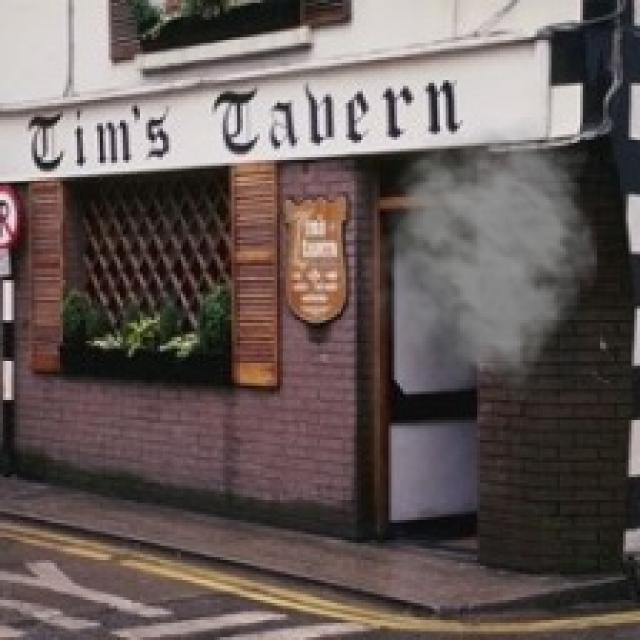Smoke: (360, 117, 600, 400)
